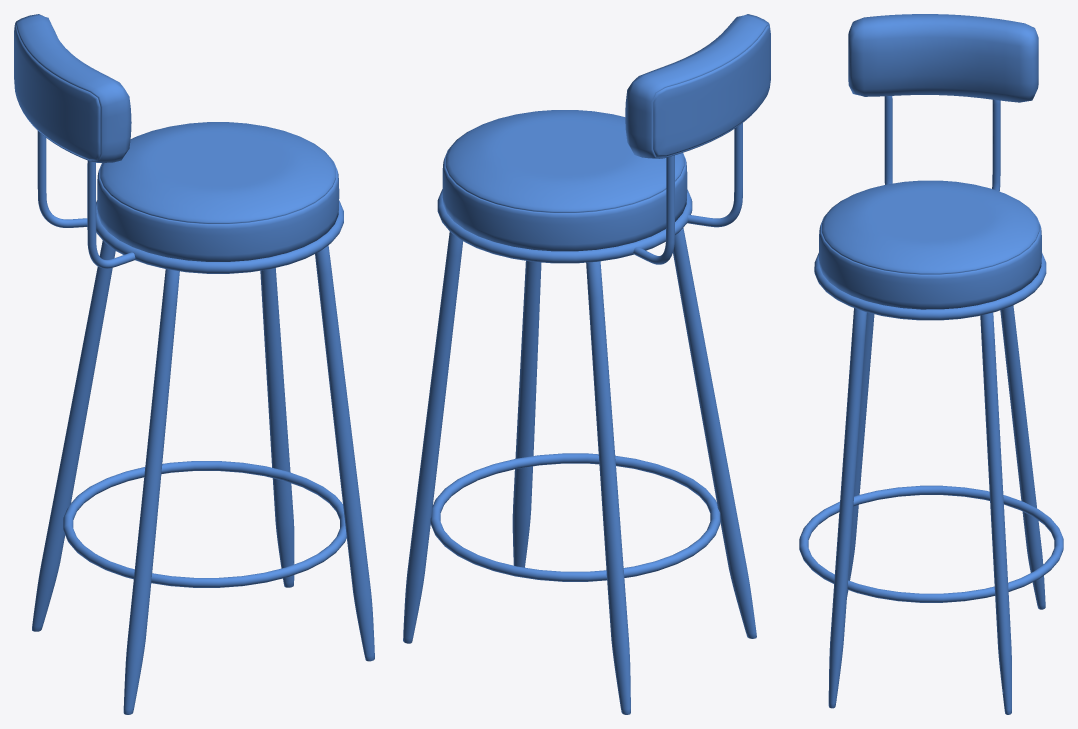
The model's file is SM_Taboulet.FBX.
3 views of the same model, side by side, from view 1: azimuth 30°, elevation 25°; view 2: azimuth 150°, elevation 25°; view 3: azimuth 270°, elevation 25° (orthographic). The views are drawn at different scales.
Visible parts, largest first — view 1: Object001; view 2: Object001; view 3: Object001.
Part boxes in pixels (x1,y1,x2,y2): Object001: (14,14,374,714); Object001: (403,14,770,714); Object001: (799,14,1063,714).
Bounding box in the file's own units: 59.39 × 122 × 50.64.
